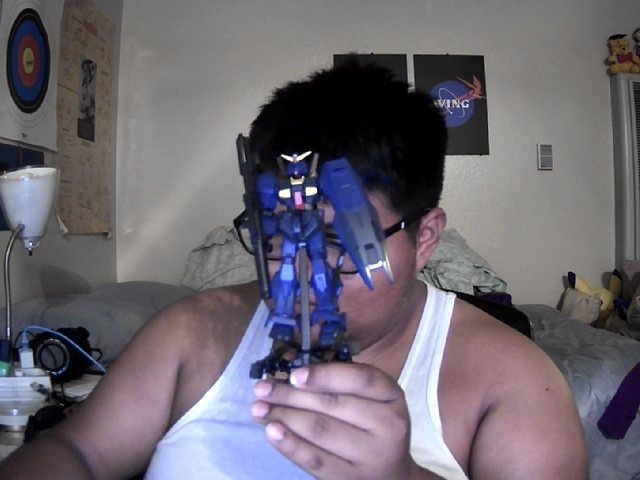Mk-11-Titans: (235, 134, 394, 346)
